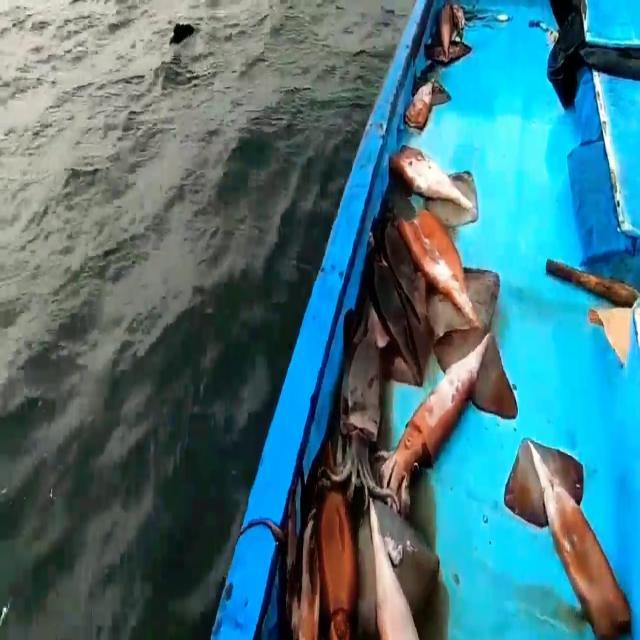squid: (372, 324, 518, 512), (506, 434, 628, 640), (316, 300, 396, 504), (398, 208, 500, 338), (356, 492, 438, 640), (313, 438, 362, 640), (365, 245, 434, 386), (394, 147, 479, 224), (427, 0, 472, 63)
